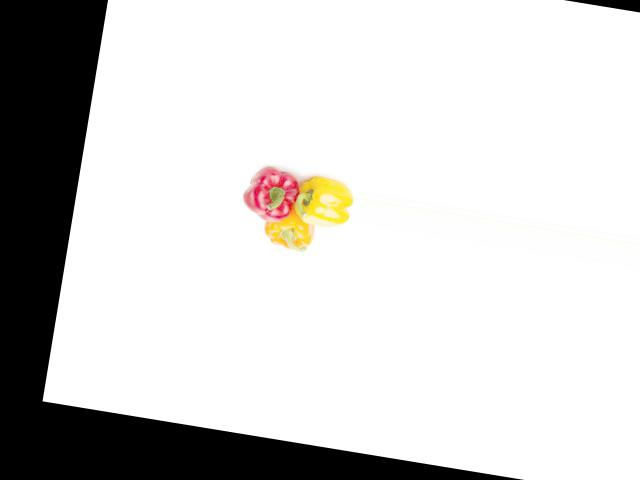bell_pepper: (295, 169, 357, 232)
